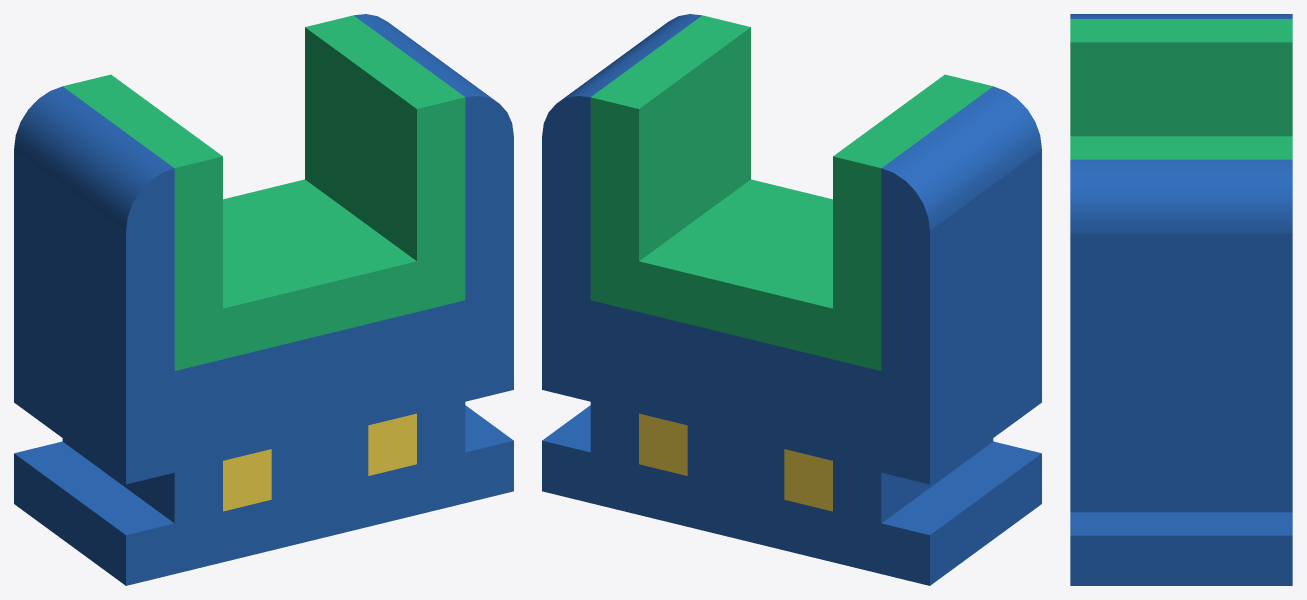
The model's file is OrcBodyFront.dae.
3 renders of one model, left to right at view 1: azimuth 30°, elevation 25°; view 2: azimuth 150°, elevation 25°; view 3: azimuth 270°, elevation 25°, orthographic.
Visible parts, largest first — view 1: generated; view 2: generated; view 3: generated.
Boxes of the visible parts, bbox=[...] form: generated: bbox=[14, 14, 513, 585]; generated: bbox=[542, 14, 1041, 585]; generated: bbox=[1070, 14, 1292, 585].
Size of the model in its own units: 8 by 8 by 4.
1 material, 1 textured.
